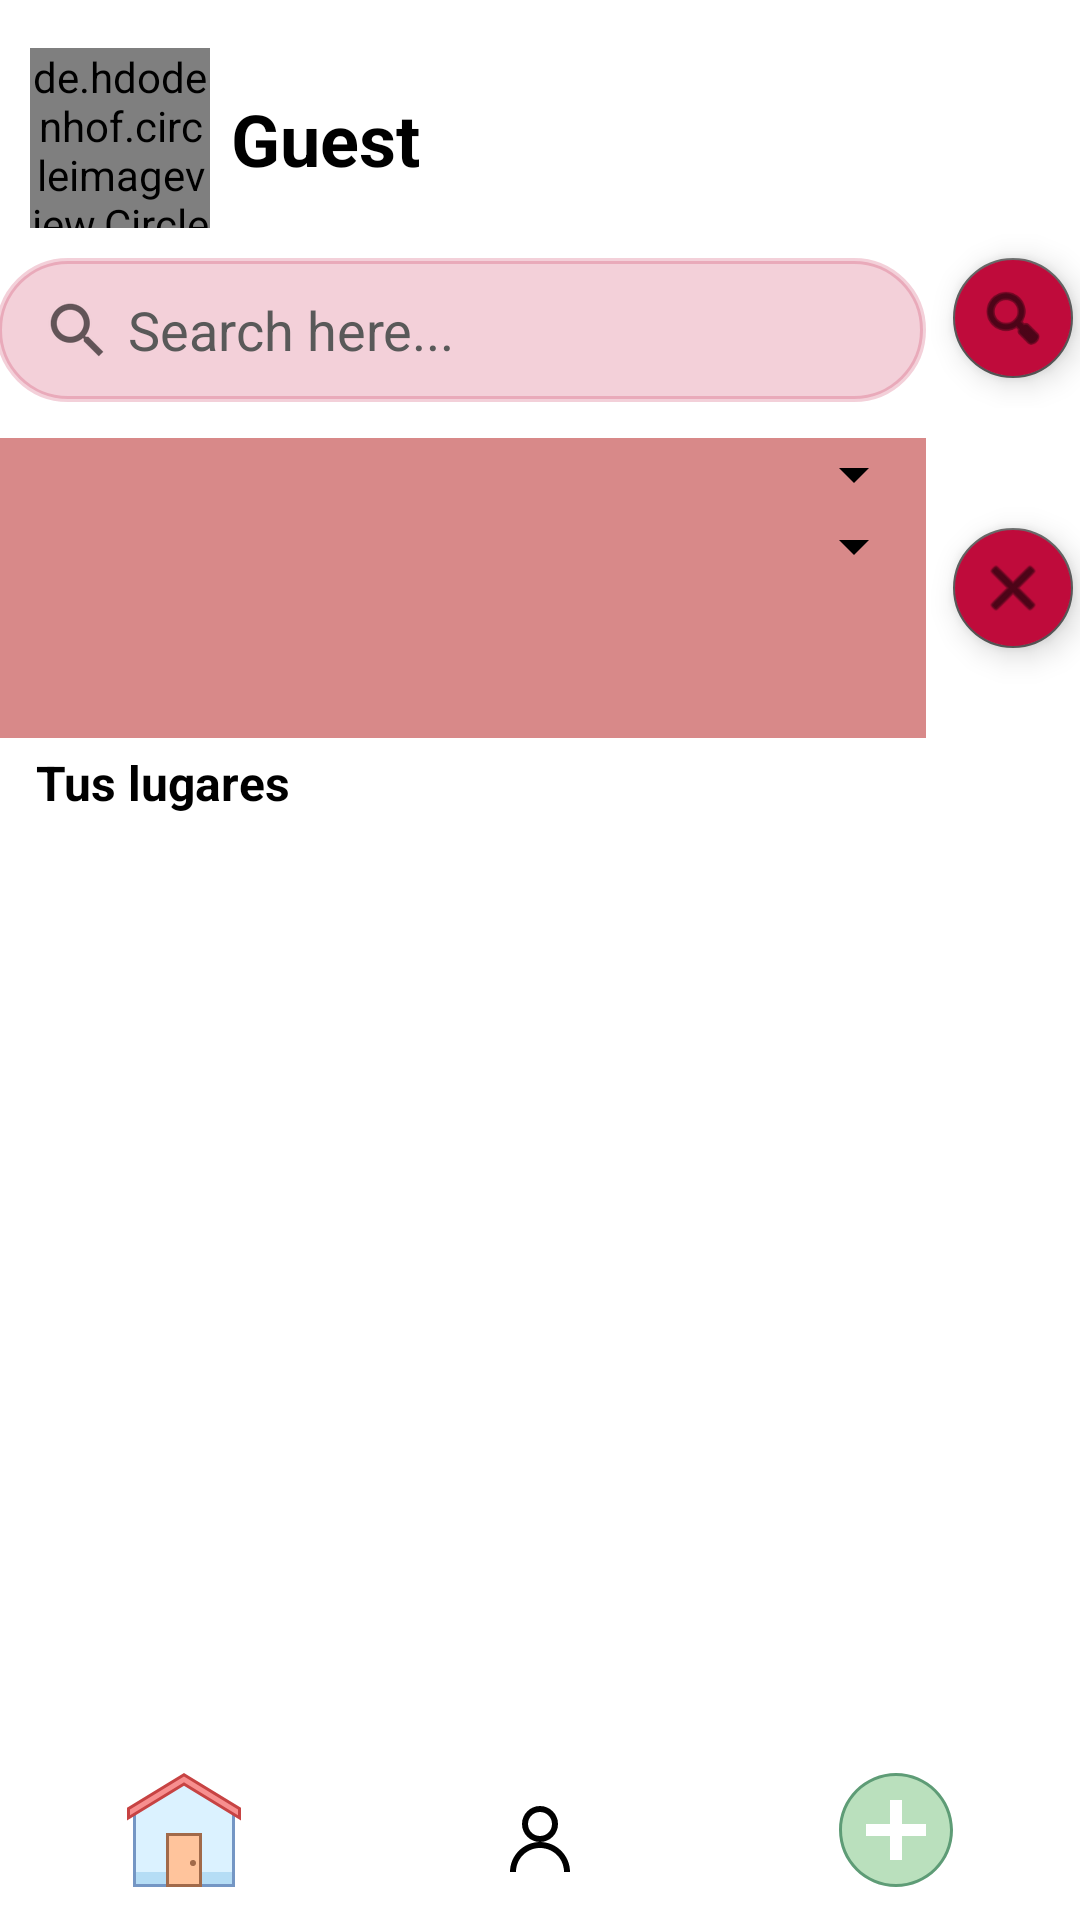

Point at icon controls on the screen. Image size 1080 x 1920, points as point (x, y).
addplace: point (896, 1830)
close clear cancel: point (1014, 590)
home: point (184, 1830)
porfilesettings: point (540, 1839)
